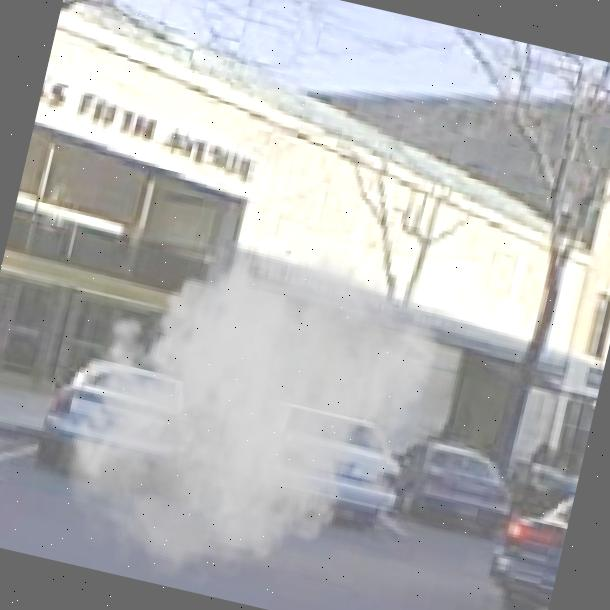smoke: (33, 188, 463, 610)
